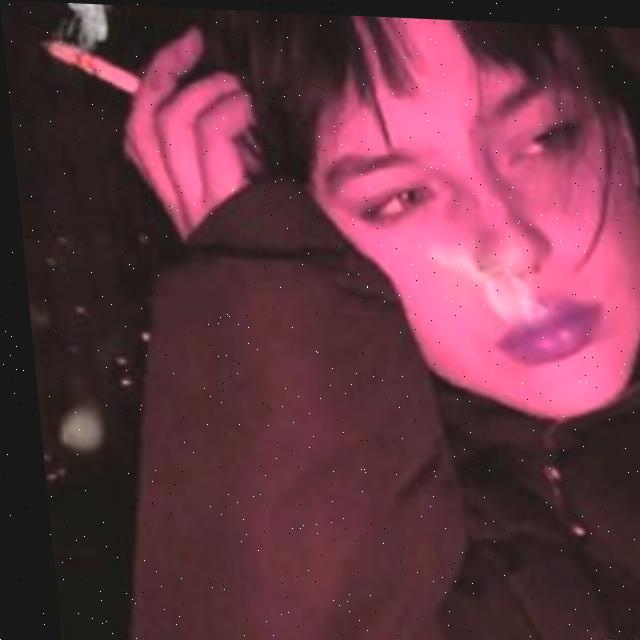cigarette: (44, 35, 143, 93)
